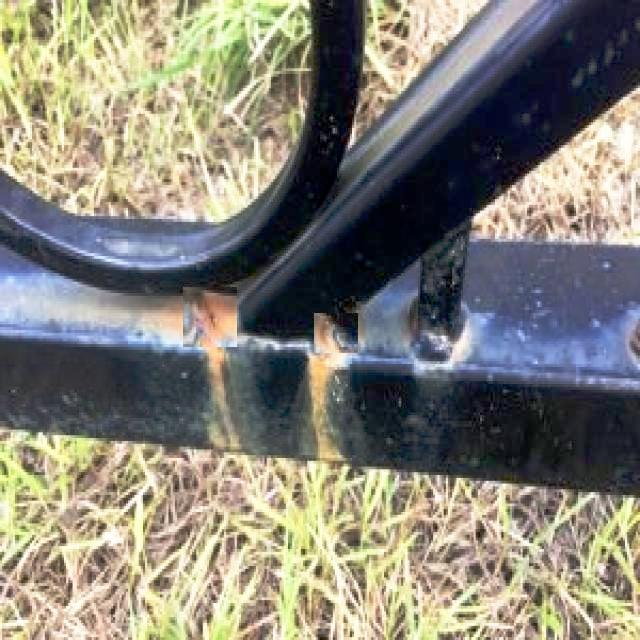Corrosion: (308, 312, 358, 462), (73, 293, 182, 346), (208, 347, 241, 452), (187, 291, 237, 348)
